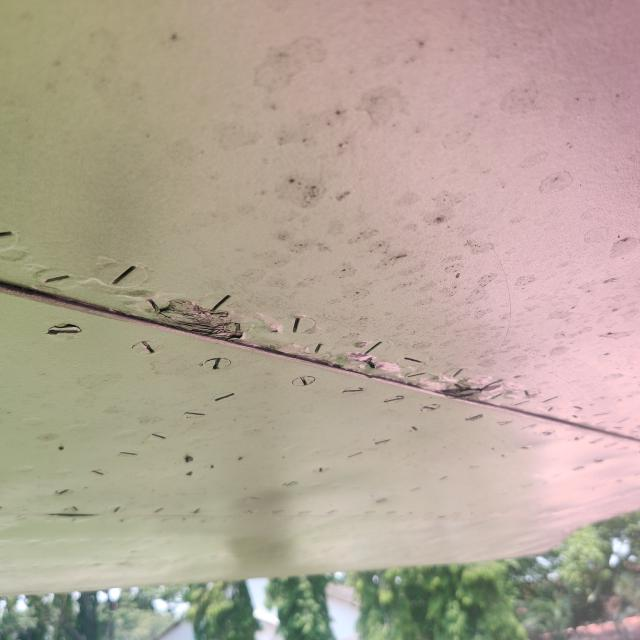paint-off: (143, 290, 252, 348)
